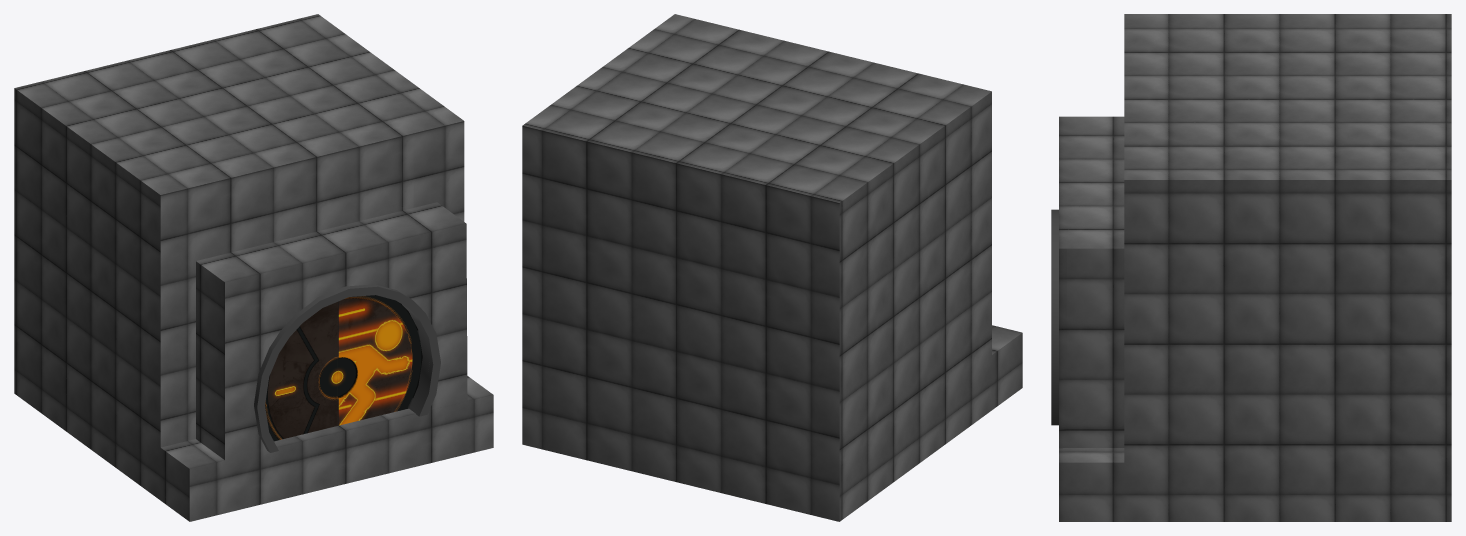
Rendered from Exit.fbx.
The picture shows the model from 3 angles, left to right: view 1: azimuth 30°, elevation 25°; view 2: azimuth 150°, elevation 25°; view 3: azimuth 270°, elevation 25°; orthographic projection. The views are drawn at different scales.
Parts seen in each view (by area): view 1: PolyShape__5_, Openl1, Openr1; view 2: PolyShape__5_; view 3: PolyShape__5_.
Boxes of the visible parts, x1,y1,x2,y2 form: PolyShape__5_: (14,14,493,521); Openl1: (337,295,422,425); Openr1: (265,301,338,441); PolyShape__5_: (522,14,1022,521); PolyShape__5_: (1051,14,1451,521).
Size of the model in its own units: 6 by 6.11 by 5.76.
